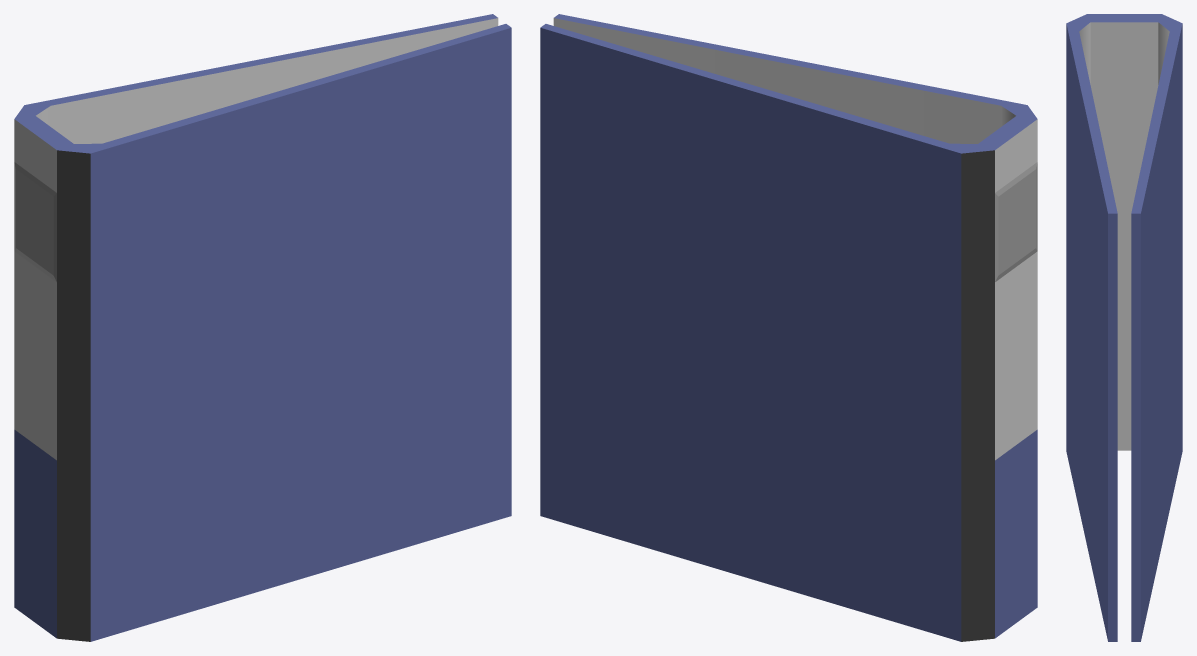
File: BlueArchiveClosed.fbx
The picture shows the model from 3 angles, left to right: view 1: azimuth 30°, elevation 25°; view 2: azimuth 150°, elevation 25°; view 3: azimuth 270°, elevation 25°; orthographic projection. The views are drawn at different scales.
Parts seen in each view (by area): view 1: pCube104; view 2: pCube104; view 3: pCube104.
Part boxes in pixels (<box>): pCube104: <box>14,14,511,641</box>; pCube104: <box>540,14,1037,641</box>; pCube104: <box>1066,14,1182,641</box>.
Bounding box in the file's own units: 1 × 1 × 0.2459.
